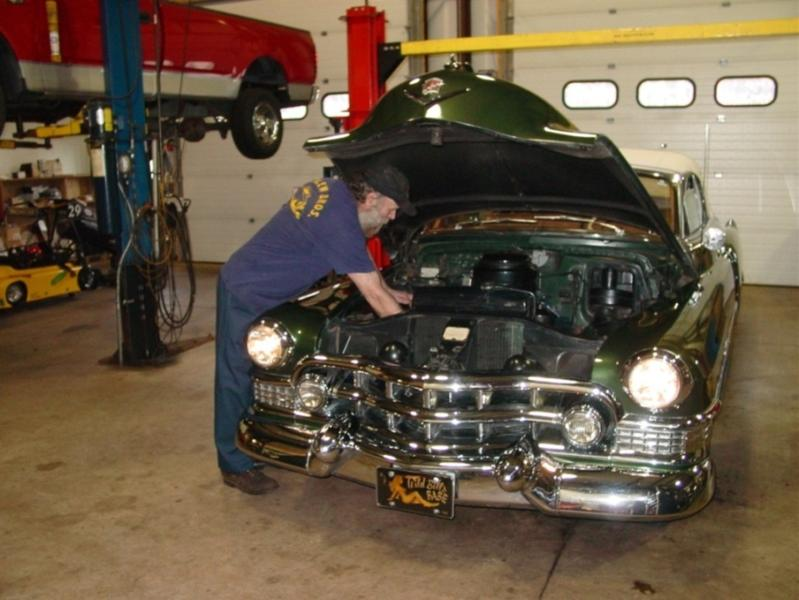person: (215, 164, 414, 498)
